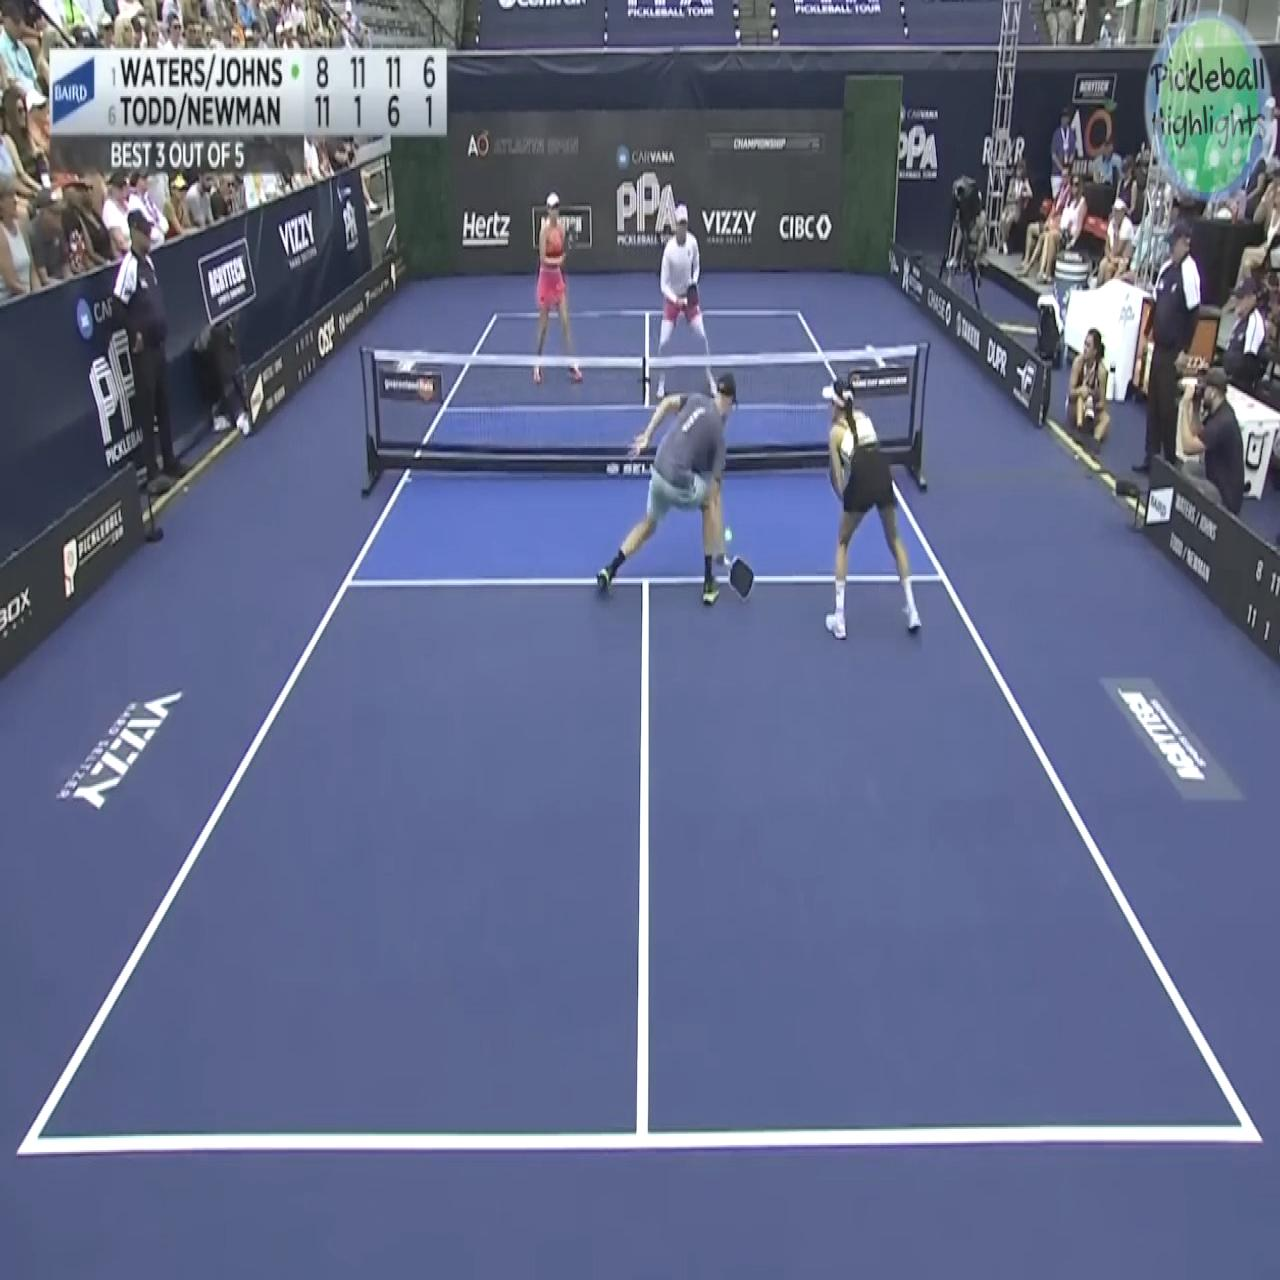Pickleball: (721, 520, 736, 550)
